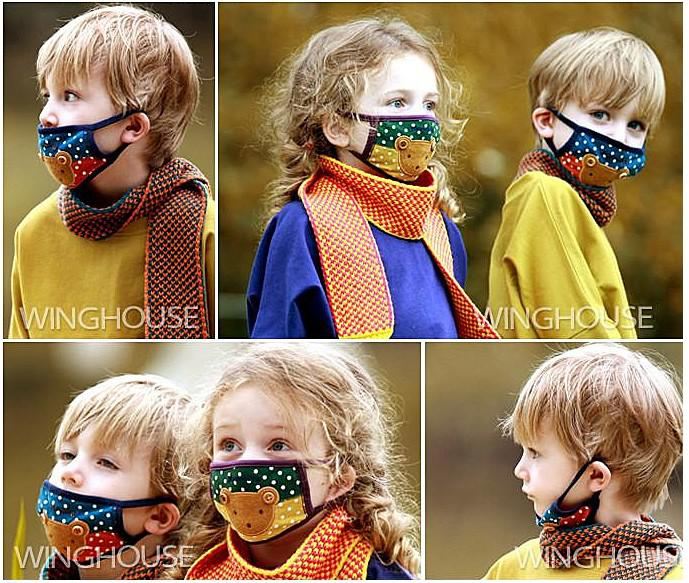OK: (210, 418, 322, 540), (353, 85, 444, 176)
WRONG: (44, 436, 162, 554), (29, 66, 144, 181), (556, 87, 649, 180), (517, 438, 599, 530)
